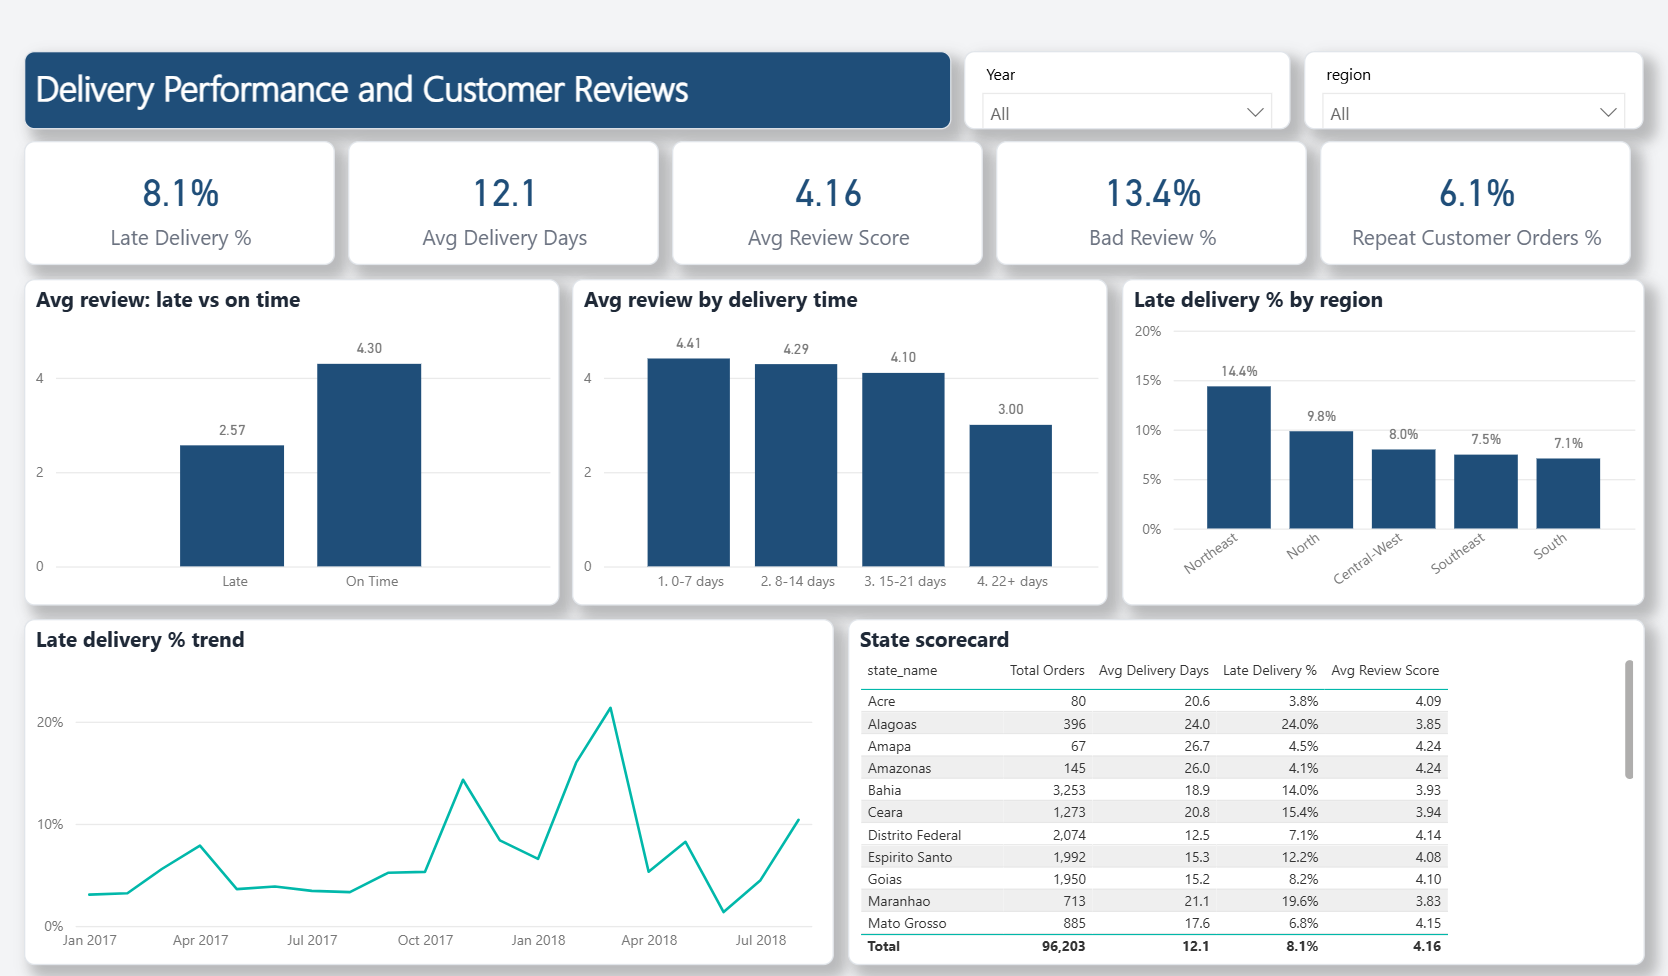

This screenshot's page, from the dashboard's own definition file:
{"tool":"powerbi","page":{"name":"Delivery & Reviews","canvas":[1280,720],"ordinal":1},"visuals":[{"type":"textbox","box":[20,10,710,60],"z":0},{"type":"slicer","fields":{"Values":["Date.Year"]},"box":[740,10,250,60],"z":1000},{"type":"slicer","fields":{"Values":["State.region"]},"box":[1000,10,260,60],"z":2000},{"type":"card","fields":{"Values":["Orders.Late Delivery %"]},"box":[20,80,238,95],"z":3000},{"type":"card","fields":{"Values":["Orders.Avg Delivery Days"]},"box":[268,80,238,95],"z":4000},{"type":"card","fields":{"Values":["Orders.Avg Review Score"]},"box":[516,80,238,95],"z":5000},{"type":"card","fields":{"Values":["Orders.Bad Review %"]},"box":[764,80,238,95],"z":6000},{"type":"card","fields":{"Values":["Orders.Repeat Customer Orders %"]},"box":[1012,80,238,95],"z":7000},{"type":"clusteredColumnChart","title":"Avg review: late vs on time","fields":{"Category":["Orders.delivery_status"],"Y":["Orders.Avg Review Score"]},"box":[20,185,410,250],"z":8000},{"type":"clusteredColumnChart","title":"Avg review by delivery time","fields":{"Category":["Orders.delivery_bucket"],"Y":["Orders.Avg Review Score"]},"box":[440,185,410,250],"z":9000},{"type":"clusteredColumnChart","title":"Late delivery % by region","fields":{"Category":["State.region"],"Y":["Orders.Late Delivery %"]},"box":[860,185,400,250],"z":10000},{"type":"lineChart","title":"Late delivery % trend","fields":{"Category":["Date.Month Start"],"Y":["Orders.Late Delivery %"]},"box":[20,445,620,265],"z":11000},{"type":"tableEx","title":"State scorecard","fields":{"Values":["State.state_name","Orders.Total Orders","Orders.Avg Delivery Days","Orders.Late Delivery %","Orders.Avg Review Score"]},"box":[650,445,610,265],"z":12000}]}

Visuals, with their boxes on the page's 1280x720 design canvas (x1, y1, x2, y2). These are canvas units, not pixel positions in the 1668x976 screenshot, which may show the page scaled, cropped or inside an application window:
textbox: [20, 10, 730, 70]
slicer - Date.Year: [740, 10, 990, 70]
slicer - State.region: [1000, 10, 1260, 70]
card - Orders.Late Delivery %: [20, 80, 258, 175]
card - Orders.Avg Delivery Days: [268, 80, 506, 175]
card - Orders.Avg Review Score: [516, 80, 754, 175]
card - Orders.Bad Review %: [764, 80, 1002, 175]
card - Orders.Repeat Customer Orders %: [1012, 80, 1250, 175]
"Avg review: late vs on time" clusteredColumnChart: [20, 185, 430, 435]
"Avg review by delivery time" clusteredColumnChart: [440, 185, 850, 435]
"Late delivery % by region" clusteredColumnChart: [860, 185, 1260, 435]
"Late delivery % trend" lineChart: [20, 445, 640, 710]
"State scorecard" tableEx: [650, 445, 1260, 710]
